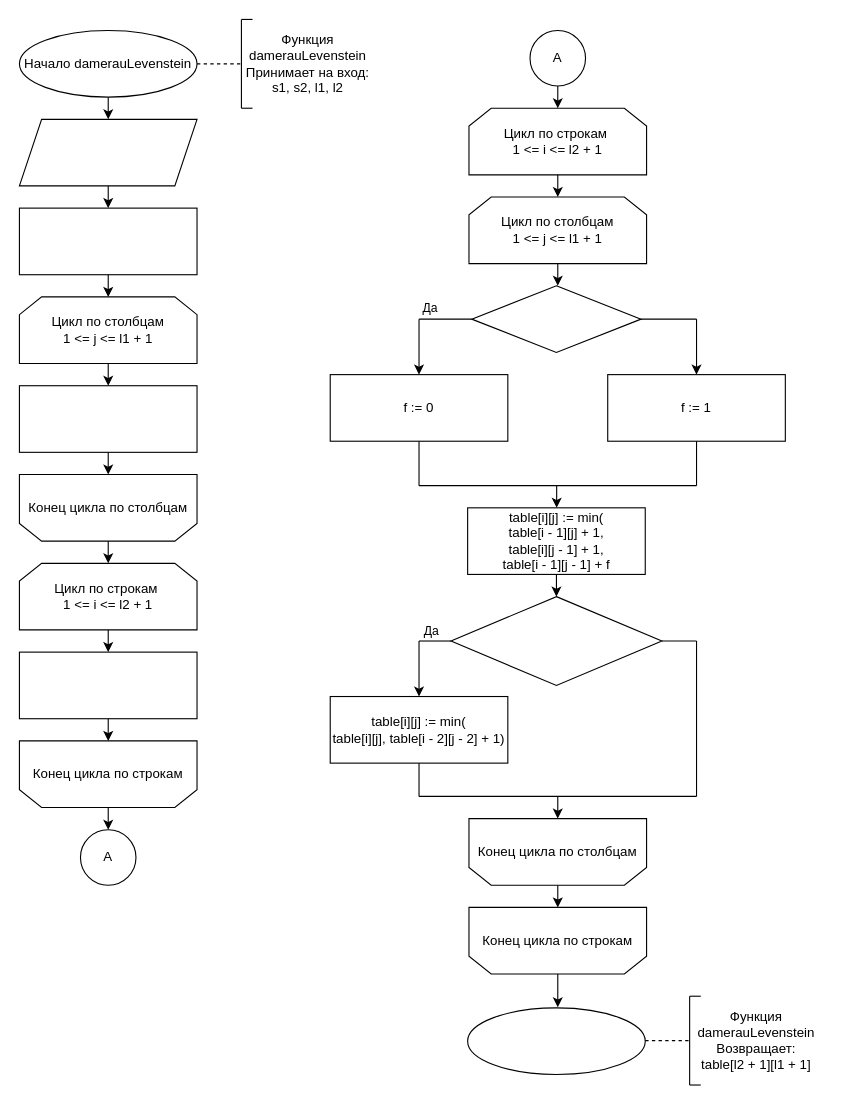
This 842x1106 diagram has some shape labels left out. The shapes that lost their labels are listed below. From the top down, each one's centre as x and y in pixels, then its label:
At [107,152]: "Создание матрицы (l1 + 1)x(l2 + 1)".
At [107,241]: "i := 1, j := 1".
At [556,318]: "s1[i - 1] = s2[j - 1]".
At [107,418]: "table[1][j] := j - 1".
At [556,640]: "i > 1 and j > 1 and s1[i - 1] = s2[j - 2] and s1[i - 2] = s2[j - 1]".
At [107,685]: "table[i][1] := i - 1".
At [556,1040]: "Конец damerauLevenstein".
